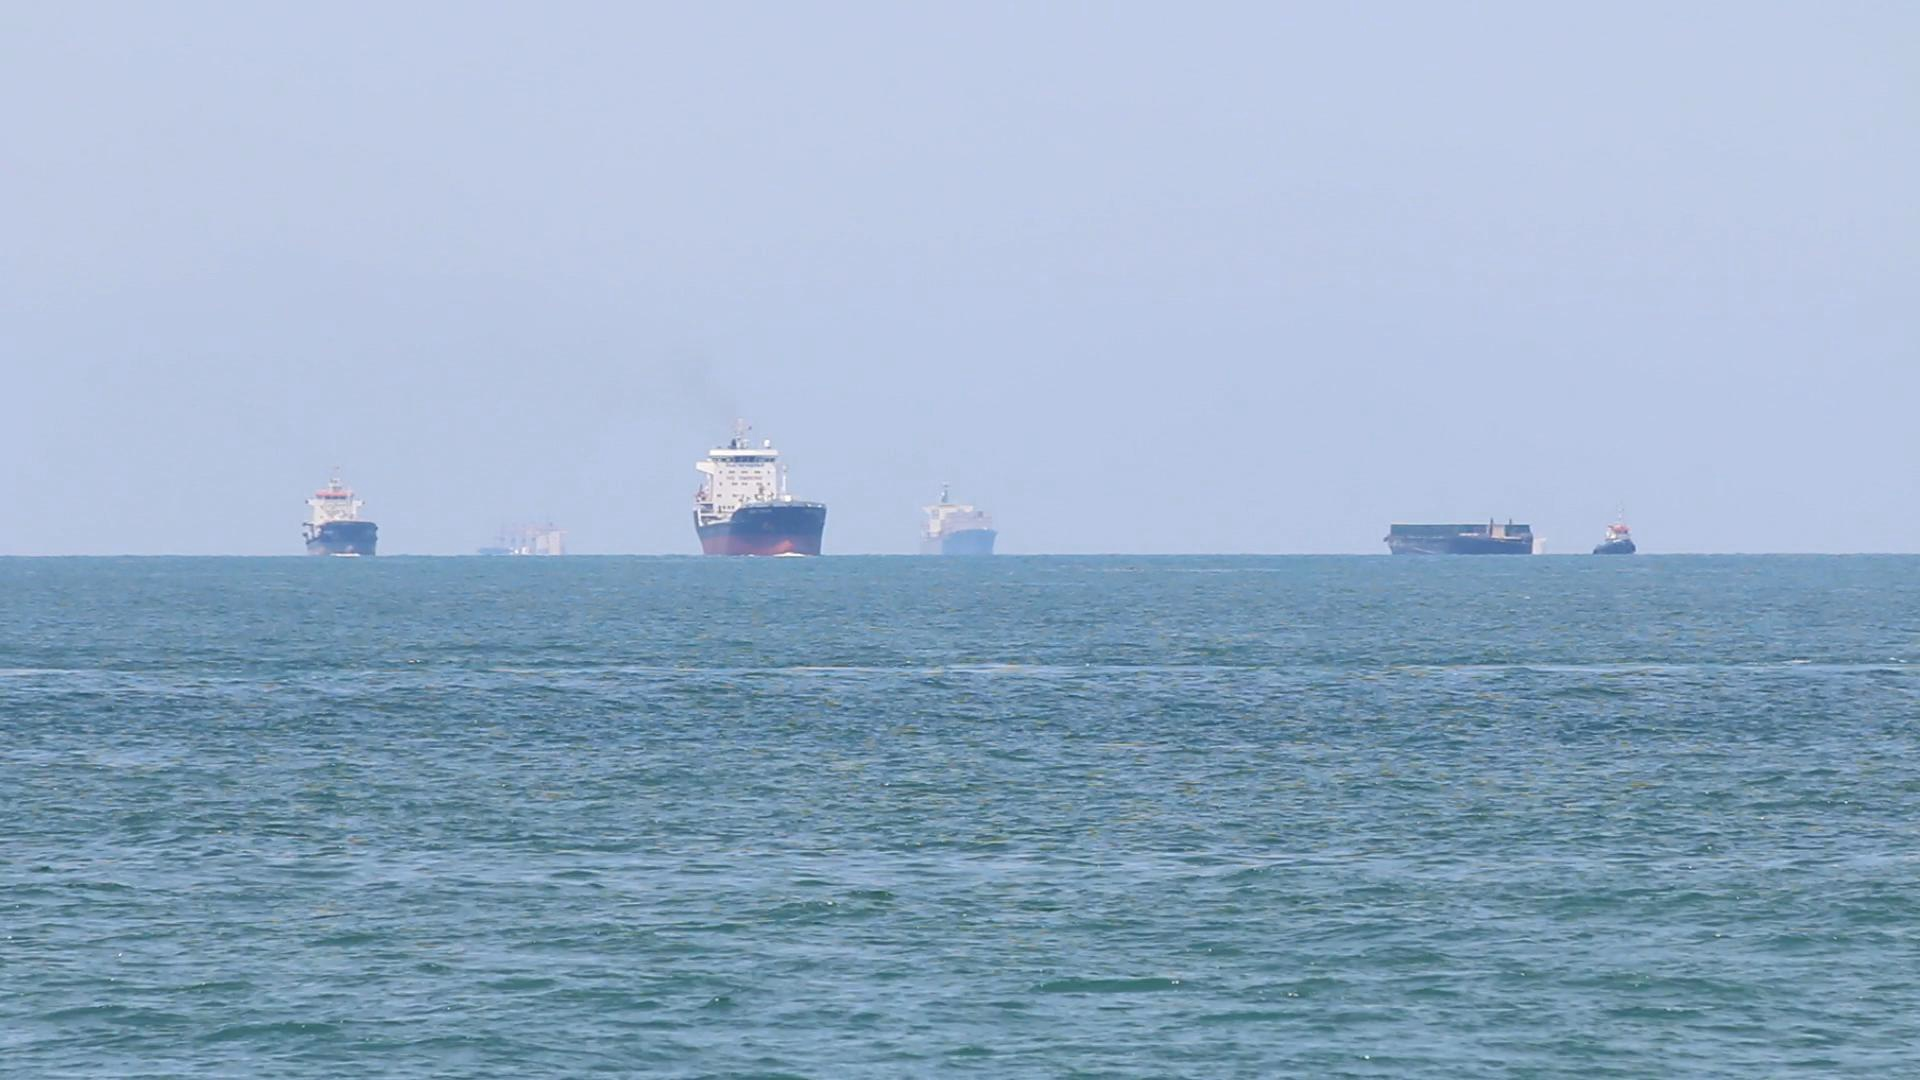Container Ship: (687, 413, 840, 567), (1382, 508, 1553, 563), (305, 458, 392, 564), (916, 472, 1013, 564), (1589, 516, 1654, 562)
